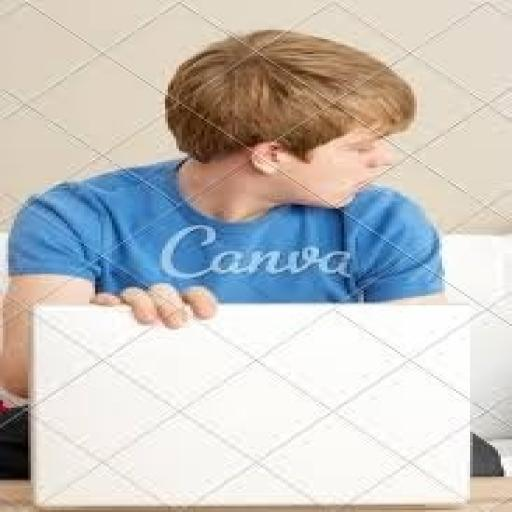using_laptop: (22, 300, 476, 510)
